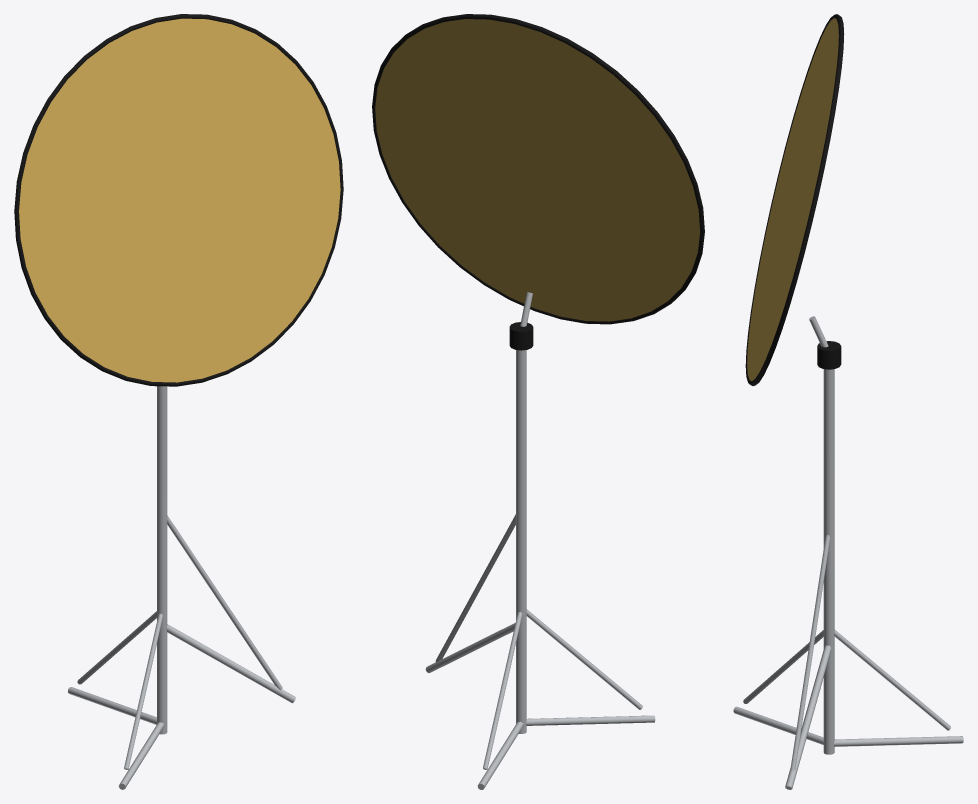
Rendered from riflettore-oro.glb.
The picture shows the model from 3 angles, left to right: view 1: azimuth 30°, elevation 25°; view 2: azimuth 150°, elevation 25°; view 3: azimuth 270°, elevation 25°; orthographic projection.
Size of the model in its own units: 1.12 by 2.33 by 0.6726.
